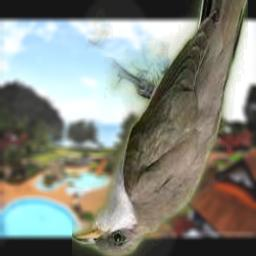Cuckoo: (72, 0, 248, 256)
